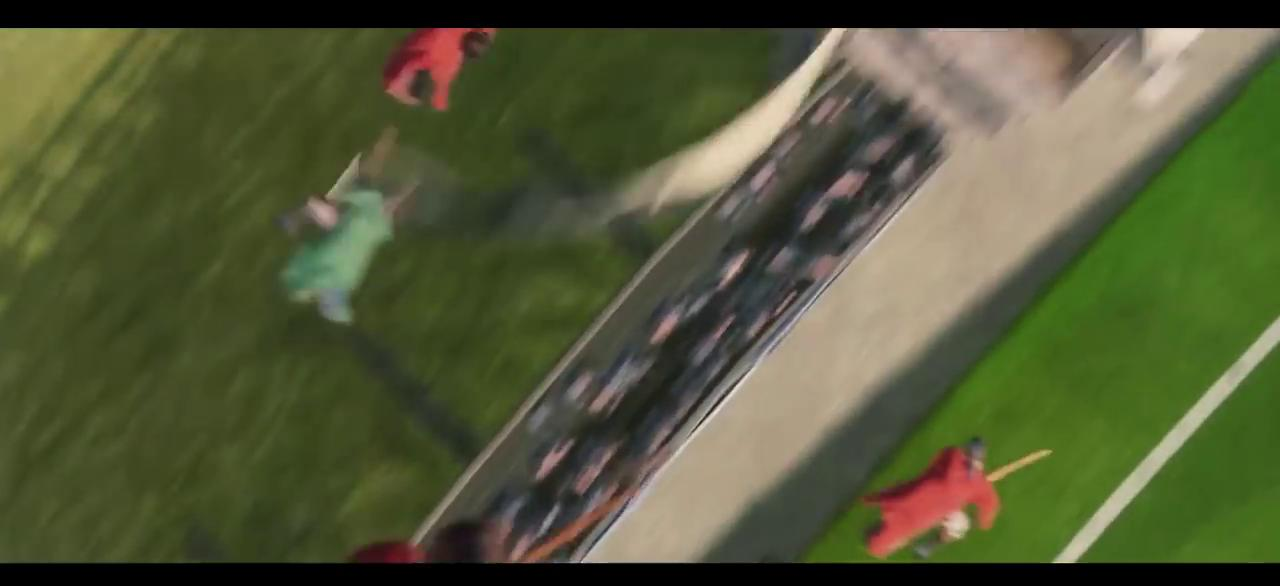quaffle: (462, 32, 490, 60)
